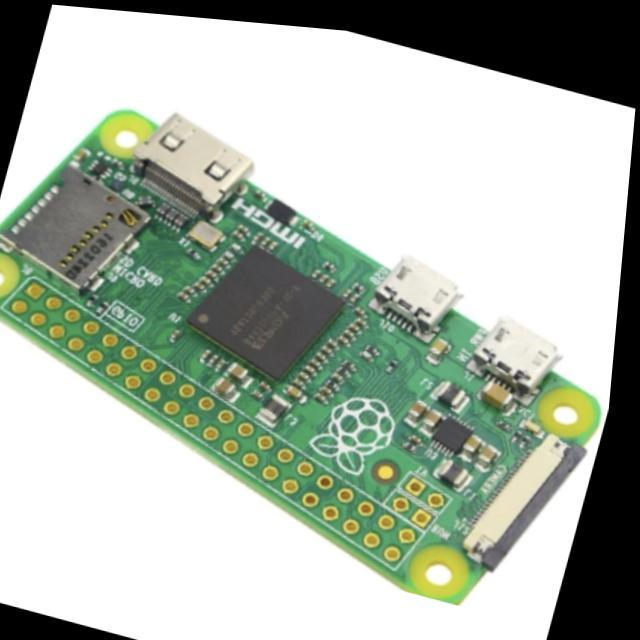Raspberry-Pi-Zero: (1, 113, 602, 604)
